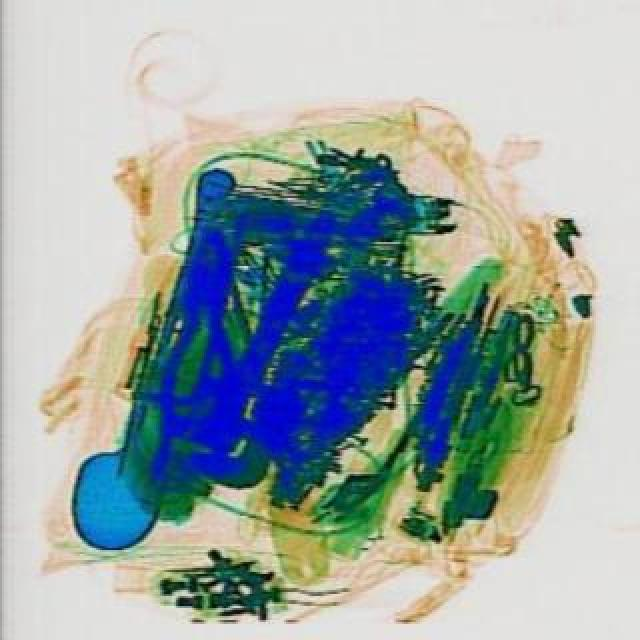wrench: (144, 222, 258, 482)
